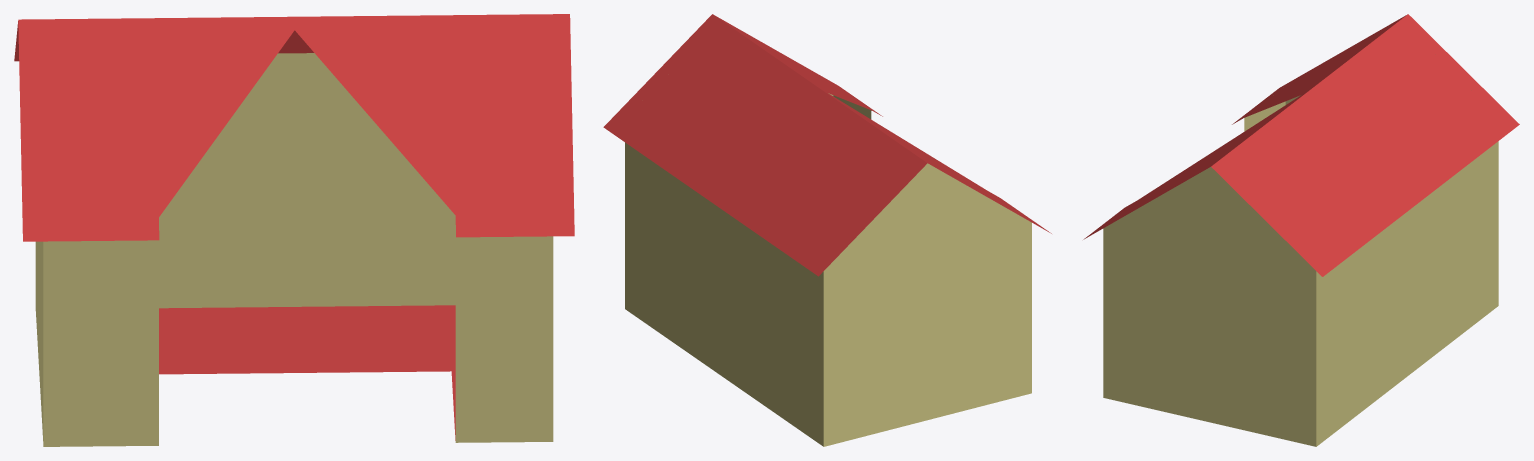
3 views of the same model, side by side, from view 1: azimuth 30°, elevation 25°; view 2: azimuth 150°, elevation 25°; view 3: azimuth 270°, elevation 25° (orthographic). The views are drawn at different scales.
Bounding box in the file's own units: 23.58 × 20.96 × 13.92.
